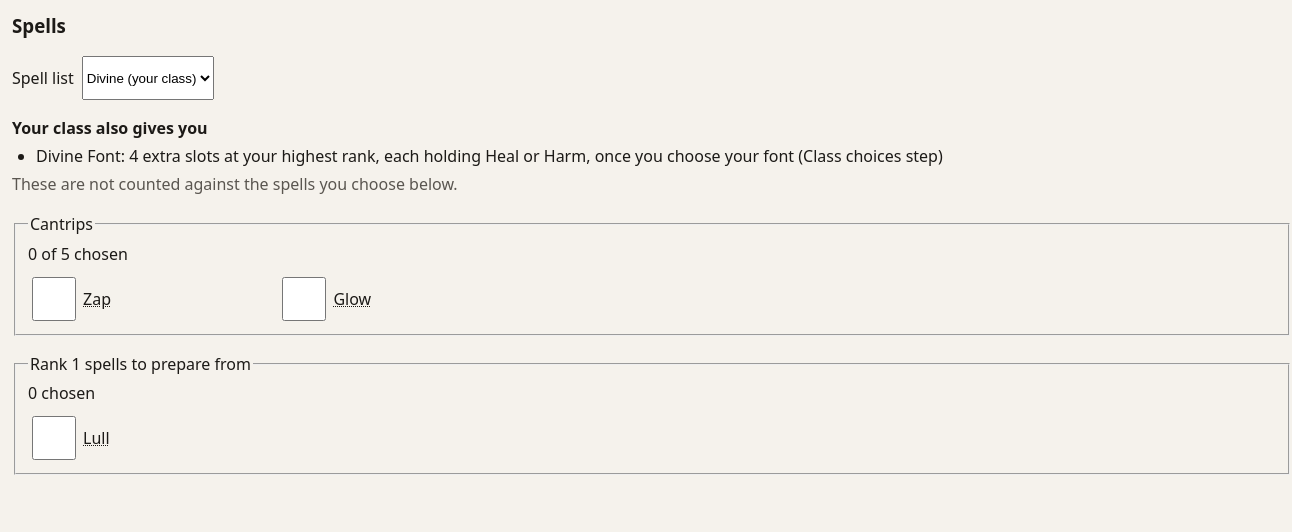
it: SpellsStep › lets another tradition’s list be browsed, with a note that it is off the class’s list
Expected: the text "not your class" is not shown
Select "Arcane" in the dropdown labelled "Spell list" at {"x": 148, "y": 78}, box [82,56,214,100]
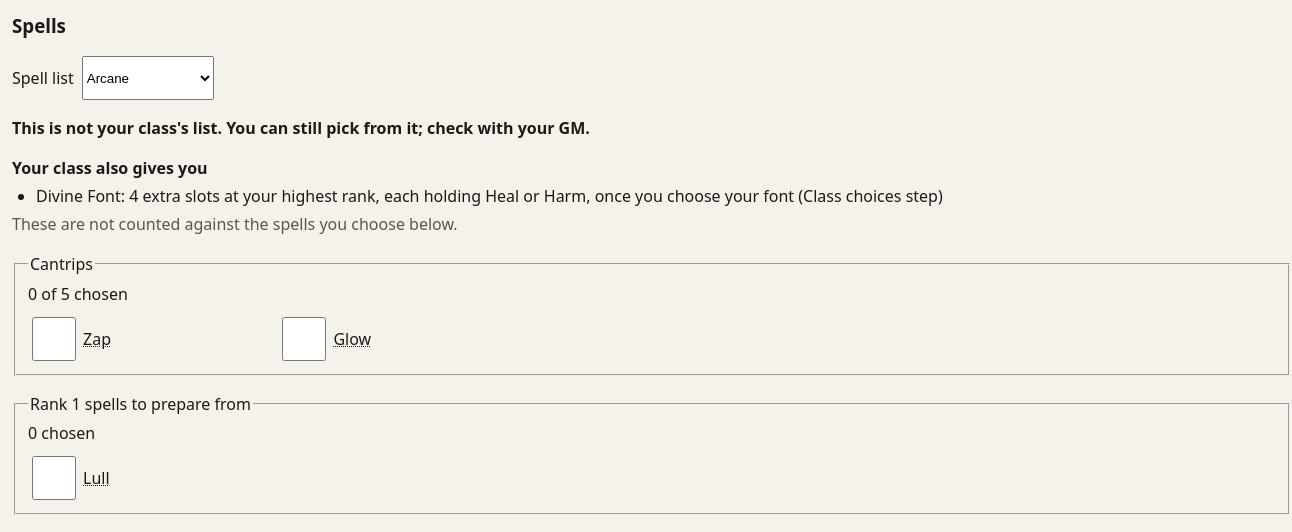
Result: the text "This is not your class's list" is shown at [12,117,590,139]
